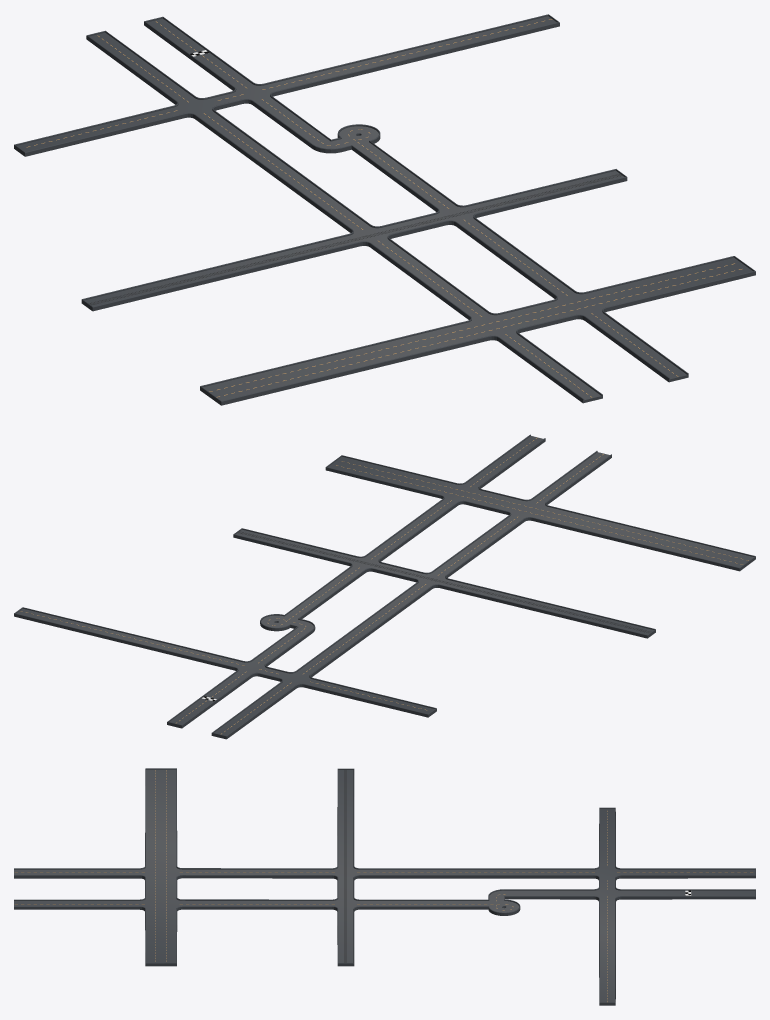
File: Path7.fbx
The picture shows the model from 3 angles, top to bottom: view 1: azimuth 30°, elevation 25°; view 2: azimuth 150°, elevation 25°; view 3: azimuth 270°, elevation 25°; orthographic projection. The views are drawn at different scales.
Parts seen in each view (by area): view 1: Plane.006; view 2: Plane.006; view 3: Plane.006.
Part boxes in pixels (<box>): Plane.006: <box>14,14,755,405</box>; Plane.006: <box>14,434,755,739</box>; Plane.006: <box>14,768,755,1005</box>.
Size of the model in its own units: 11024 by 70.27 by 14762.
